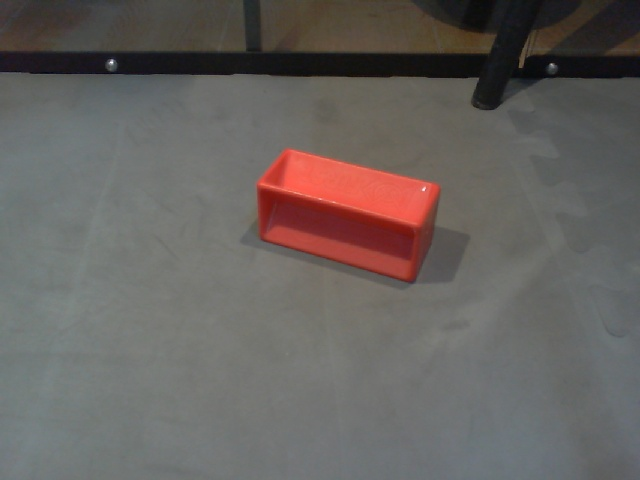RedSample: (255, 146, 441, 288)
